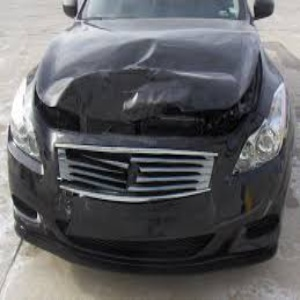bonnet: (46, 52, 240, 114)
bumper: (40, 191, 92, 235)
